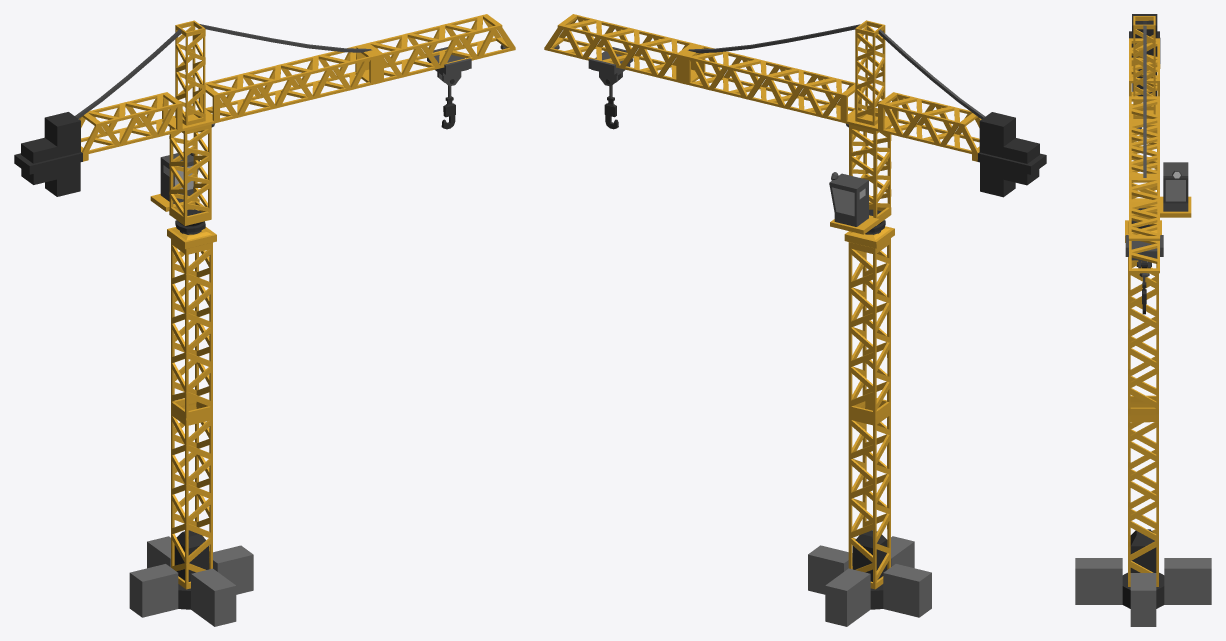
3 views of the same model, side by side, from view 1: azimuth 30°, elevation 25°; view 2: azimuth 150°, elevation 25°; view 3: azimuth 270°, elevation 25° (orthographic).
Visible parts, largest first — view 1: Cube.100, E-1, Cube.101; view 2: Cube.100, E-1, Cube.101; view 3: E-1, Cube.100, Cube.101.
Boxes of the visible parts, x1,y1,x2,y2 form: Cube.100: (14, 14, 515, 225); E-1: (129, 209, 253, 626); Cube.101: (427, 47, 471, 86); Cube.100: (544, 14, 1046, 234); E-1: (808, 209, 931, 626); Cube.101: (588, 47, 633, 86); E-1: (1075, 208, 1211, 626); Cube.100: (1129, 14, 1191, 277); Cube.101: (1125, 235, 1163, 268).
Bounding box in the file's own units: 7748 × 8702 × 1861.
